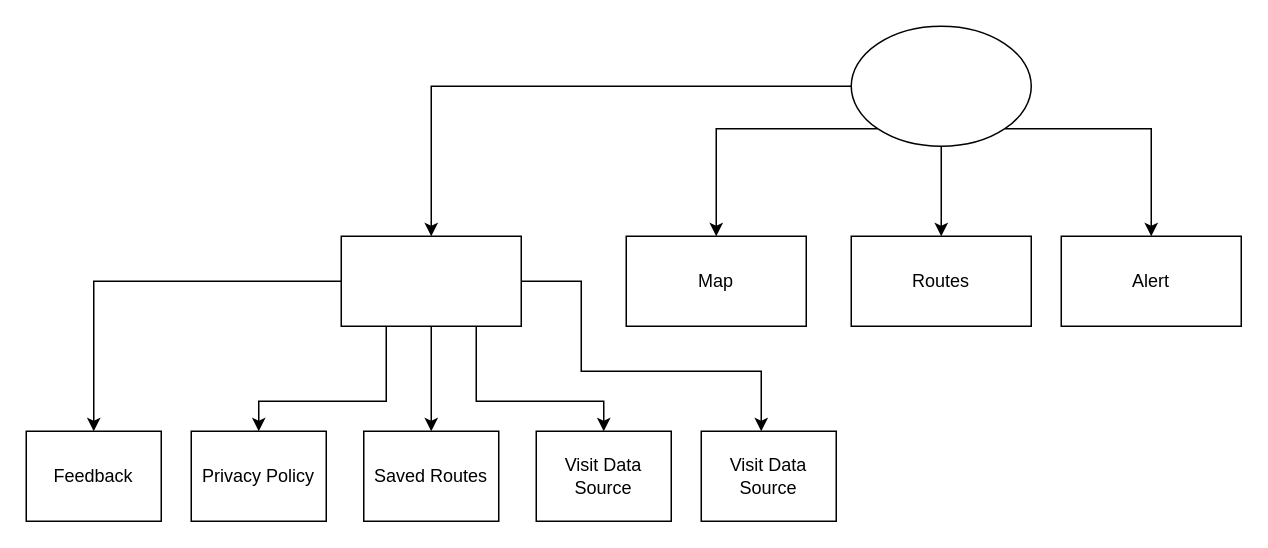
This 1268x548 diagram has some shape labels left out. The shapes that lost their labels are listed below. From the top down, each one's box as (x1, y1, x2, y2) in pixels, then its label:
(850, 25, 1031, 146): Root
(340, 235, 521, 326): Settings
